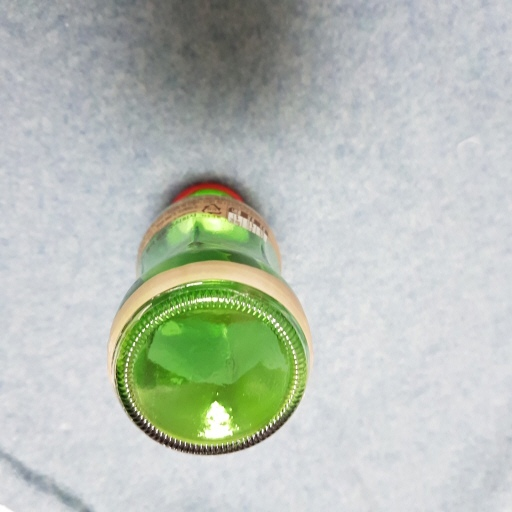Glass_4: (109, 172, 314, 457)
